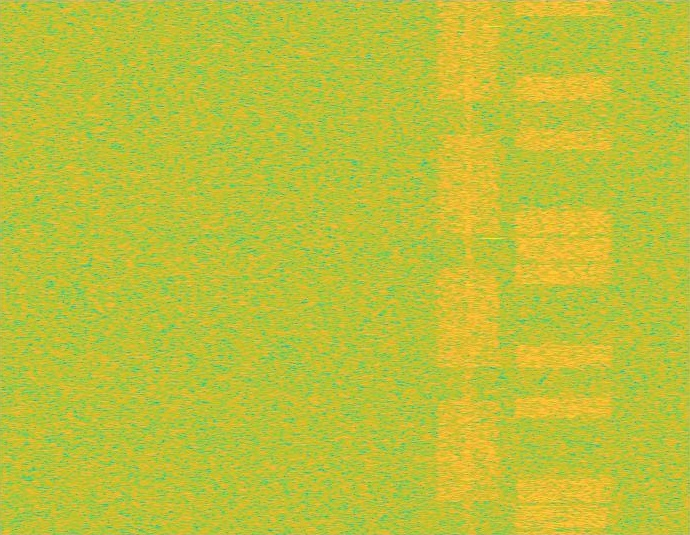5G: (434, 0, 503, 534)
DSSS: (464, 0, 473, 534)
LTE: (512, 0, 615, 534)
Radar: (486, 0, 500, 534)
